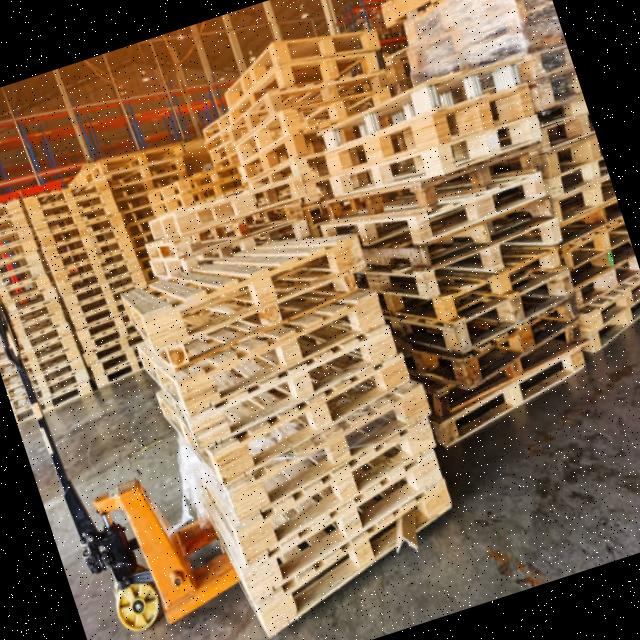Wooden-Pallets: (239, 437, 449, 613), (251, 470, 461, 640), (219, 371, 437, 531), (139, 219, 380, 358), (184, 315, 407, 464), (317, 80, 541, 185), (444, 337, 596, 460), (217, 23, 382, 118), (411, 161, 553, 257), (434, 242, 568, 333), (23, 172, 115, 227)
